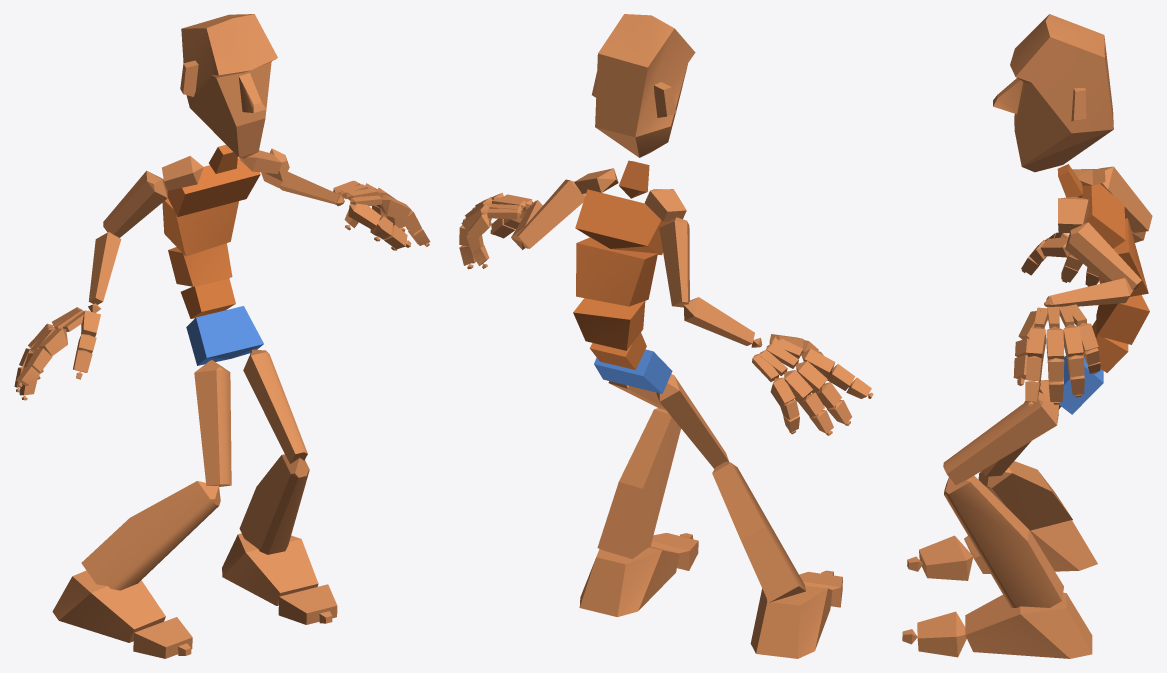
The model's file is prueba268.obj.
The picture shows the model from 3 angles, left to right: view 1: azimuth 30°, elevation 25°; view 2: azimuth 150°, elevation 25°; view 3: azimuth 270°, elevation 25°; orthographic projection. The views are drawn at different scales.
Visible parts, largest first — view 1: BOPED_Head, BOPED_R_leg, BOPED_R_foot, BOPED_L_leg, BOPED_R_foot01, BOPED_R_legup, Bone01, BOPED_L_legup, Bone04, Bone05, BOPED_R_arm_upper, Bone03 (+7 smaller); view 2: BOPED_Head, BOPED_L_leg, BOPED_R_leg, BOPED_R_foot01, BOPED_R_foot, Bone04, Bone05, Bone03, BOPED_R_legup, BOPED_R_arm_upper, BOPED_L_arm_upper, Bone01 (+7 smaller); view 3: BOPED_Head, BOPED_L_leg, BOPED_R_foot01, BOPED_L_legup, BOPED_R_leg, BOPED_R_foot, BOPED_L_arm_upper, Bone03, Bone05, BOPED_R_foot_toe01, BOPED_R_foot_toe04, BOPED_L_arm_fore (+15 smaller).
Boxes of the visible parts, x1,y1,x2,y2 form: BOPED_Head: [180, 14, 277, 158]; BOPED_R_leg: [81, 481, 220, 590]; BOPED_R_foot: [52, 570, 165, 642]; BOPED_L_leg: [239, 454, 309, 554]; BOPED_R_foot01: [222, 533, 318, 605]; BOPED_R_legup: [194, 360, 231, 486]; Bone01: [186, 306, 263, 365]; BOPED_L_legup: [243, 349, 307, 463]; Bone04: [162, 198, 238, 256]; Bone05: [167, 157, 260, 216]; BOPED_R_arm_upper: [103, 170, 167, 237]; Bone03: [168, 243, 232, 286]; BOPED_Head: [592, 14, 695, 157]; BOPED_L_leg: [597, 408, 680, 558]; BOPED_R_leg: [712, 461, 805, 602]; BOPED_R_foot01: [579, 546, 679, 617]; BOPED_R_foot: [750, 585, 832, 658]; Bone04: [576, 237, 657, 306]; Bone05: [575, 189, 668, 255]; Bone03: [573, 298, 645, 350]; BOPED_R_legup: [656, 374, 728, 468]; BOPED_R_arm_upper: [659, 217, 689, 307]; BOPED_L_arm_upper: [516, 179, 585, 248]; Bone01: [594, 349, 672, 393]; BOPED_Head: [993, 14, 1113, 172]; BOPED_L_leg: [944, 475, 1063, 607]; BOPED_R_foot01: [965, 592, 1092, 658]; BOPED_L_legup: [943, 392, 1058, 484]; BOPED_R_leg: [978, 461, 1072, 530]; BOPED_R_foot: [964, 520, 1097, 573]; BOPED_L_arm_upper: [1065, 222, 1141, 291]; Bone03: [1096, 295, 1149, 344]; Bone05: [1081, 183, 1125, 248]; BOPED_R_foot_toe01: [919, 535, 973, 580]; BOPED_R_foot_toe04: [917, 611, 966, 657]; BOPED_L_arm_fore: [1046, 278, 1133, 306].
Size of the model in its own units: 130 by 175 by 65.01.
